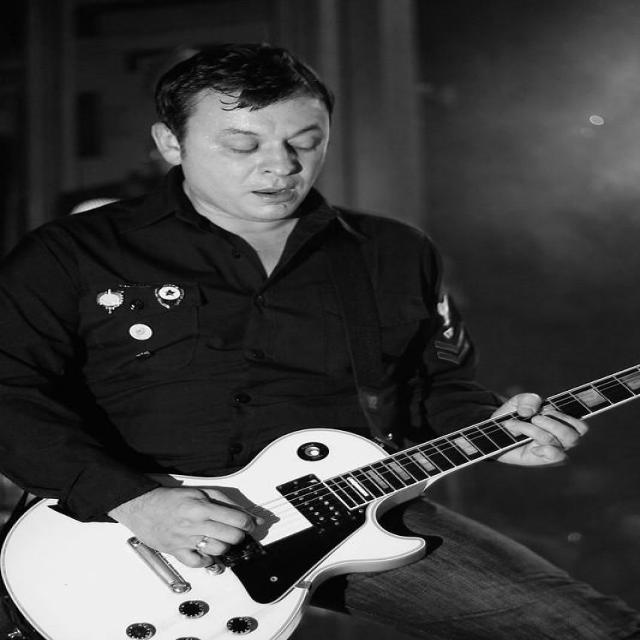guitar: (0, 415, 528, 639)
